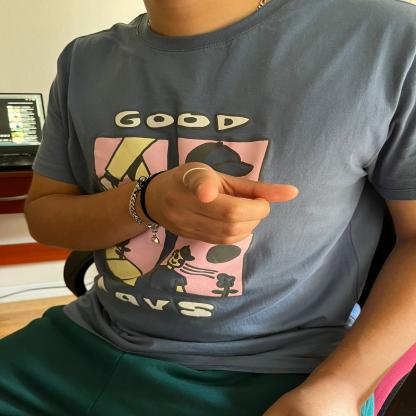X: (135, 154, 305, 248)
